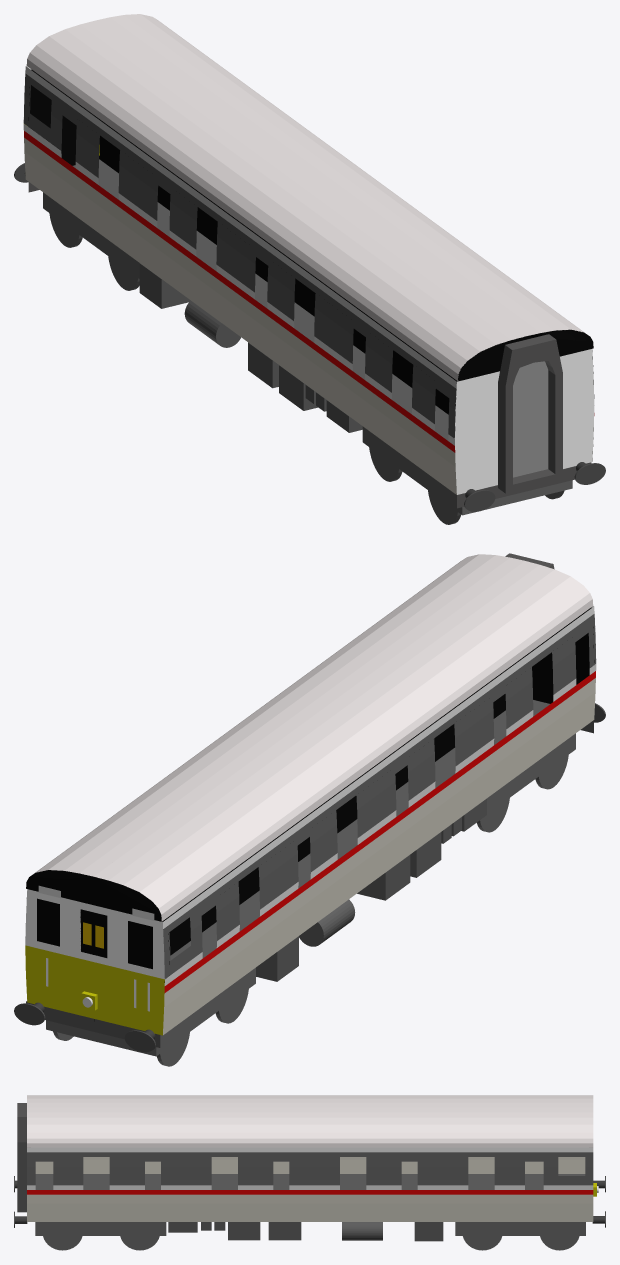
Rendered from br-489-GLV-ic-s.dae.
3 views of the same model, one above another, from view 1: azimuth 30°, elevation 25°; view 2: azimuth 150°, elevation 25°; view 3: azimuth 270°, elevation 25° (orthographic). The views are drawn at different scales.
Visible parts, largest first — view 1: Suzanne_001, Plane_007, Plane_001, Tube_003, Plane_221, Plane_002, Plane_071, Plane_176, Plane_004, Plane_005, Cube_043, Suzanne_002 (+15 smaller); view 2: Suzanne_001, Plane_007, Plane_051, Plane_071, Plane_176, Plane_004, Plane_002, Plane_005, Suzanne, Cube_043_001, Plane_070, Plane_191 (+18 smaller); view 3: Suzanne_001, Plane_030, Plane_007, Plane_179, Plane_002, Plane_029, Plane_032, Cube_043, Cube_043_001, Plane_018, Plane_027, Plane_013 (+23 smaller).
Part boxes in pixels (bbox=[...]): Suzanne_001: bbox=[26, 14, 593, 380]; Plane_007: bbox=[24, 137, 456, 494]; Plane_001: bbox=[454, 349, 594, 494]; Tube_003: bbox=[498, 334, 562, 493]; Plane_221: bbox=[513, 361, 548, 477]; Plane_002: bbox=[73, 159, 451, 440]; Plane_071: bbox=[99, 119, 457, 414]; Plane_176: bbox=[25, 66, 456, 388]; Plane_004: bbox=[25, 73, 456, 395]; Plane_005: bbox=[24, 131, 455, 452]; Cube_043: bbox=[362, 426, 572, 515]; Suzanne_002: bbox=[458, 330, 593, 381]; Suzanne_001: bbox=[26, 554, 593, 921]; Plane_007: bbox=[163, 678, 595, 1034]; Plane_051: bbox=[25, 945, 164, 1035]; Plane_071: bbox=[94, 657, 523, 1021]; Plane_176: bbox=[163, 606, 594, 928]; Plane_004: bbox=[163, 614, 594, 935]; Plane_002: bbox=[170, 700, 549, 974]; Plane_005: bbox=[164, 671, 595, 992]; Suzanne: bbox=[26, 870, 161, 921]; Cube_043_001: bbox=[46, 967, 255, 1056]; Plane_070: bbox=[37, 898, 169, 982]; Plane_191: bbox=[356, 767, 396, 837]; Suzanne_001: bbox=[27, 1095, 593, 1147]; Plane_030: bbox=[27, 1194, 593, 1221]; Plane_007: bbox=[35, 1157, 585, 1173]; Plane_179: bbox=[27, 1147, 593, 1152]; Plane_002: bbox=[35, 1174, 585, 1189]; Plane_029: bbox=[27, 1190, 593, 1194]; Plane_032: bbox=[27, 1152, 593, 1156]; Cube_043: bbox=[35, 1222, 166, 1235]; Cube_043_001: bbox=[455, 1222, 585, 1235]; Plane_018: bbox=[417, 1157, 468, 1185]; Plane_027: bbox=[161, 1157, 211, 1185]; Plane_013: bbox=[289, 1157, 339, 1185].
Size of the model in its own units: 2.11 by 11.53 by 2.72.
